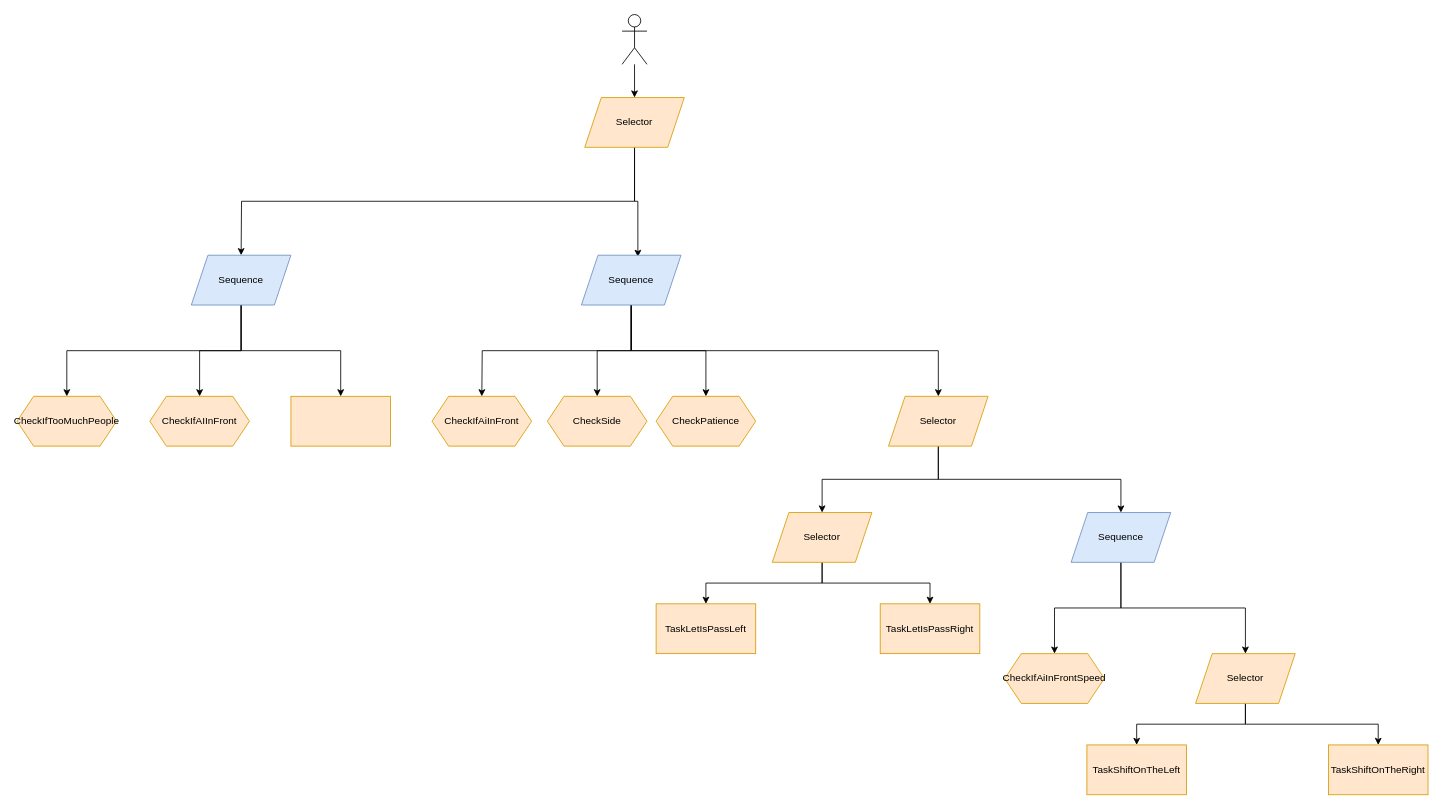
Some shapes in this 1443 by 809 pixel diagram are drawn without their labels. Each missing label, with the centre of its shape:
IA: the point at 634,39
TaskGoToWaypoint: the point at 340,420
